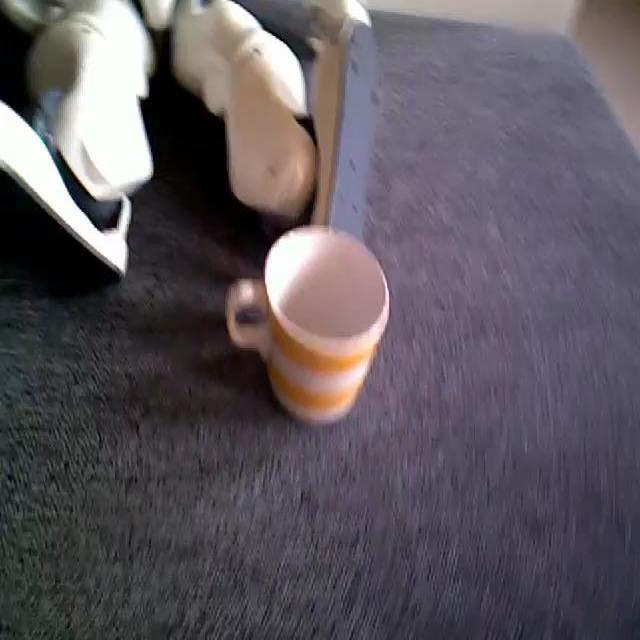cup: (222, 217, 394, 432)
